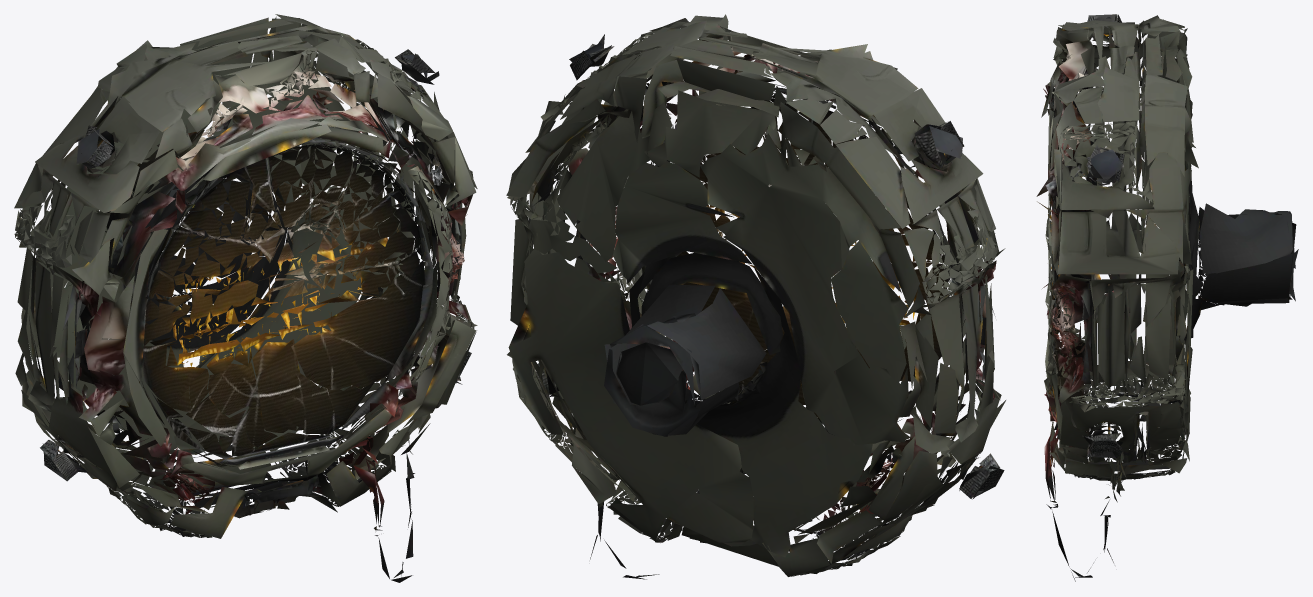
Rendered from drop_dig_manifest.glb.
The picture shows the model from 3 angles, left to right: view 1: azimuth 30°, elevation 25°; view 2: azimuth 150°, elevation 25°; view 3: azimuth 270°, elevation 25°; orthographic projection. The views are drawn at different scales.
Parts seen in each view (by area): view 1: node_0; view 2: node_0; view 3: node_0.
Boxes of the visible parts, bbox=[...] form: node_0: bbox=[14, 14, 477, 582]; node_0: bbox=[506, 14, 1005, 579]; node_0: bbox=[1036, 14, 1298, 581].
Size of the model in its own units: 0.8267 by 1.03 by 0.5116.
Materials: 1 (1 with a texture image).
